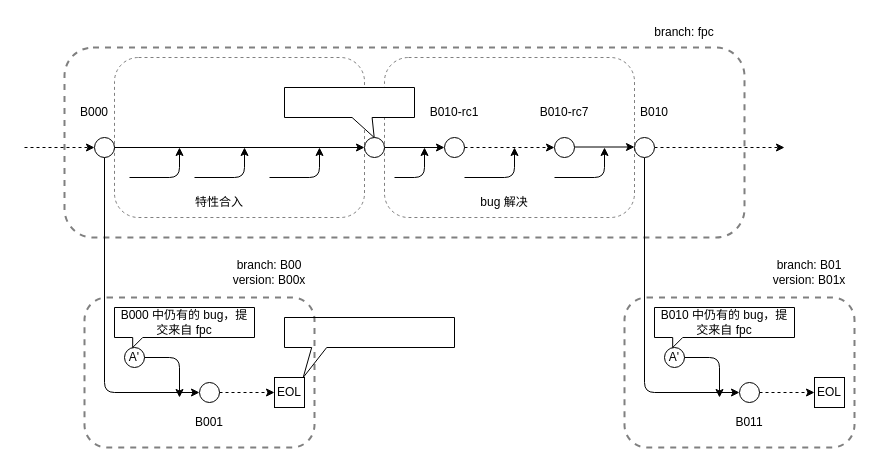
Some shapes in this 873 by 465 pixel diagram are drawn without their labels. The box of each missing label's shape, as (x1, y1, x2, y2) in pixels:
B01x 版本稳定后就结束 （基本是 B010 发布就结束）: (284, 316, 454, 378)
此节点后停止特性合入: (284, 86, 414, 138)
